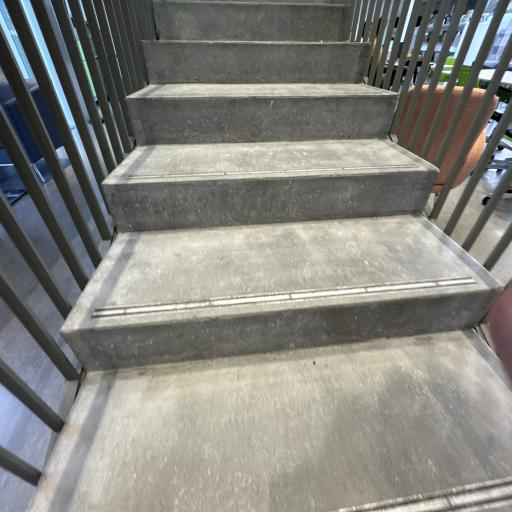Stairs: (29, 0, 512, 512), (29, 330, 512, 512), (61, 215, 501, 370), (102, 139, 438, 232), (126, 83, 398, 145), (143, 41, 371, 84), (152, 0, 348, 41)
